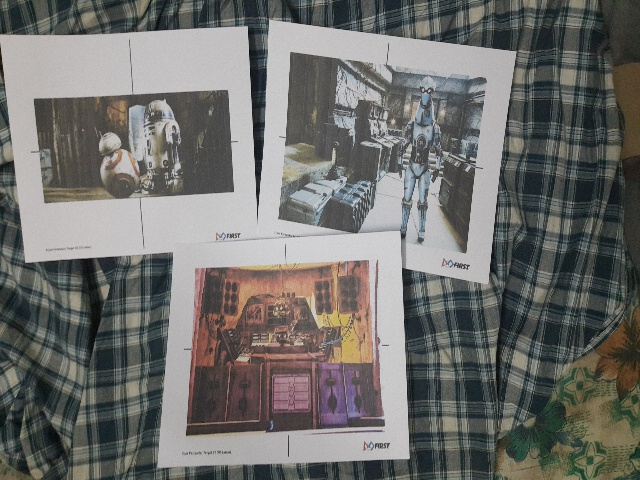fpt1: (284, 46, 473, 267)
fpt2: (25, 87, 247, 211)
rept1: (183, 261, 398, 448)
